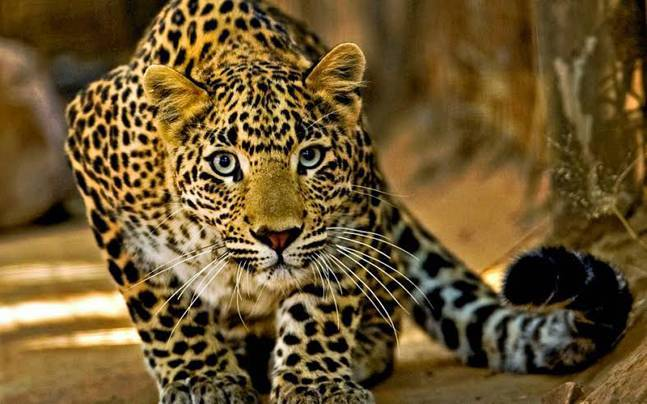leopard: (64, 3, 632, 401)
